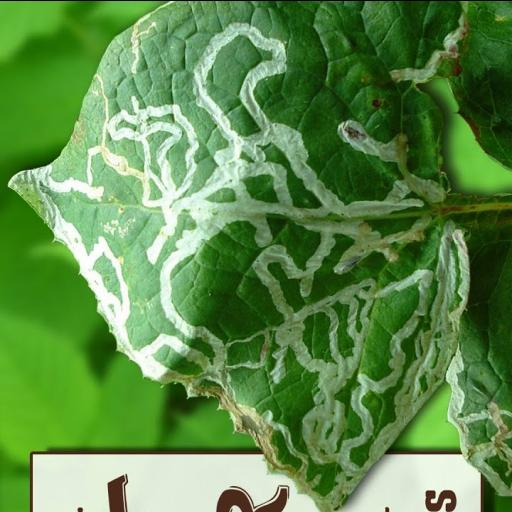disease_tomato: (6, 0, 476, 512)
